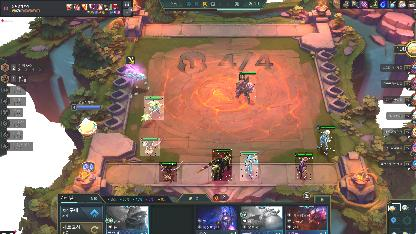1_braum: (236, 71, 256, 103)
1_jax: (144, 96, 164, 120)
1_kaisa: (240, 151, 258, 181)
1_rell: (212, 149, 232, 181)
1_twitch: (140, 138, 160, 156), (159, 162, 177, 182)
1_zyra: (295, 152, 313, 180)
2_ezreal: (317, 125, 335, 155)
